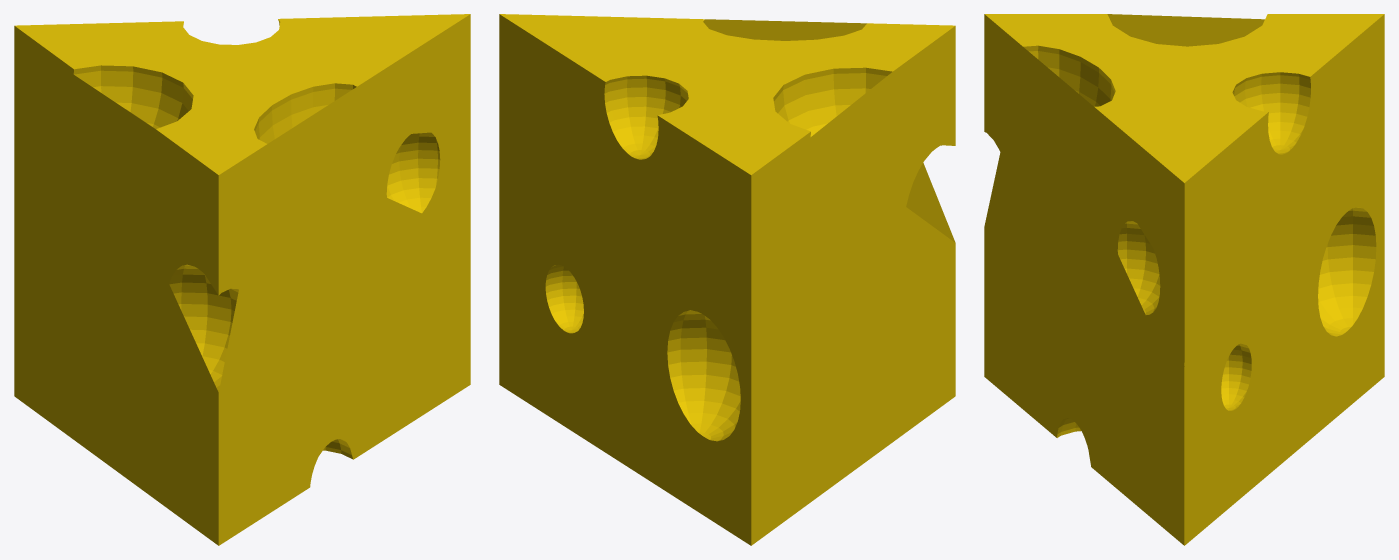
The model's file is Cheese.fbx.
The picture shows the model from 3 angles, left to right: view 1: azimuth 30°, elevation 25°; view 2: azimuth 150°, elevation 25°; view 3: azimuth 270°, elevation 25°; orthographic projection. The views are drawn at different scales.
Parts seen in each view (by area): view 1: Cheese; view 2: Cheese; view 3: Cheese.
Boxes of the visible parts, left/top/right/bottom form: Cheese: left=14, top=14, right=470, bottom=545; Cheese: left=499, top=14, right=955, bottom=545; Cheese: left=984, top=14, right=1384, bottom=545.
Bounding box in the file's own units: 200 × 200 × 200.
